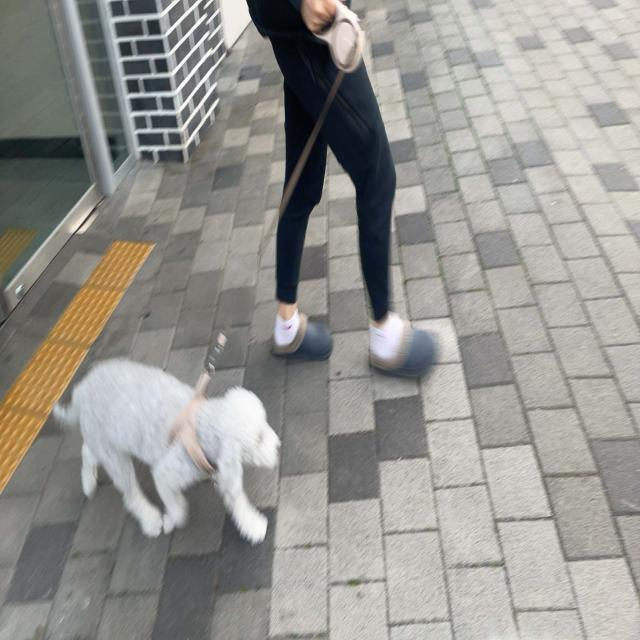Leashed_Dog: (52, 0, 347, 543)
